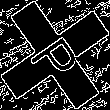P_NE: (24, 25, 86, 85)
